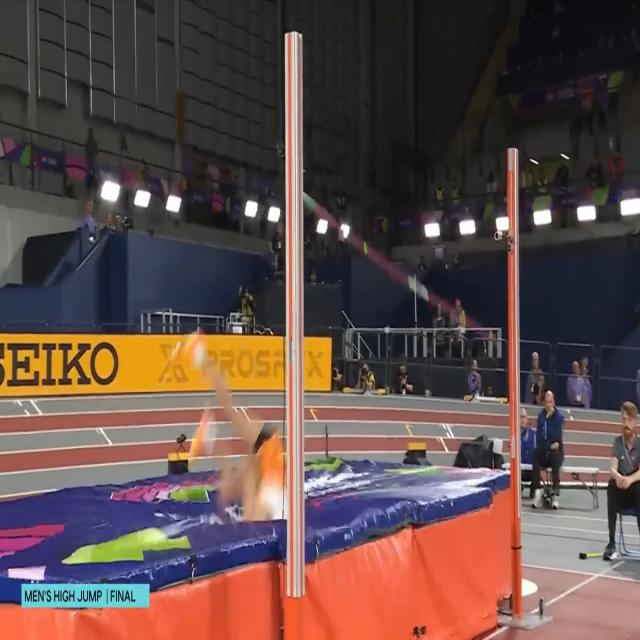land: (172, 328, 290, 528)
